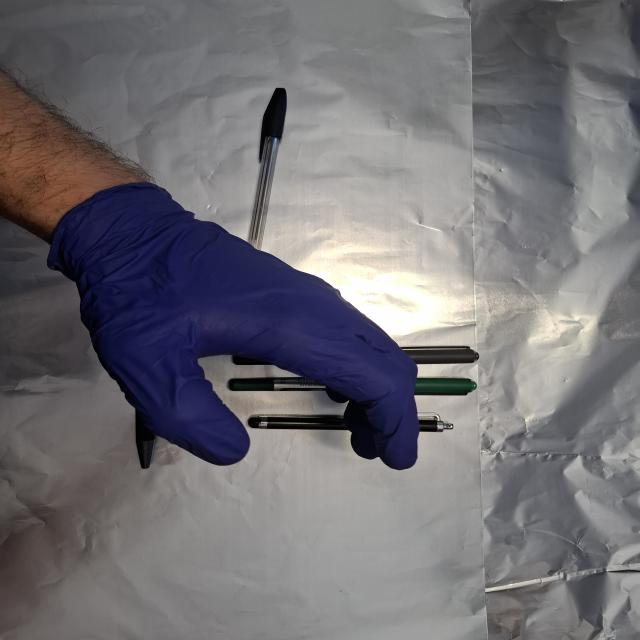glove_on: (45, 181, 424, 474)
